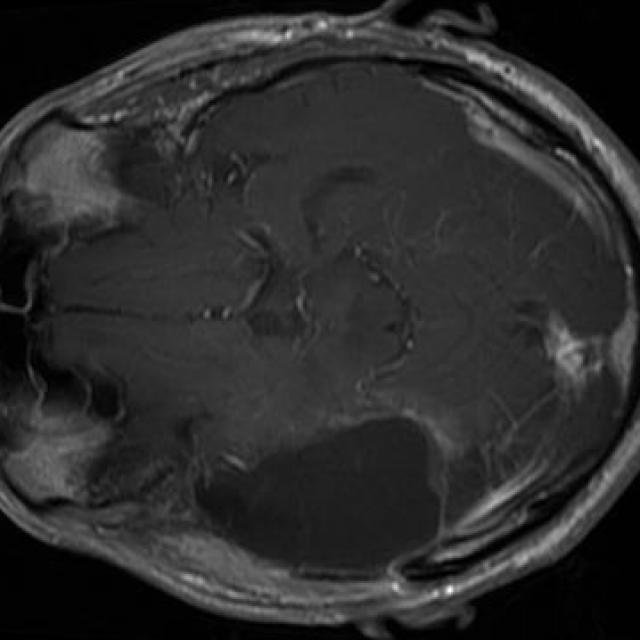glioma: (194, 419, 440, 563)
